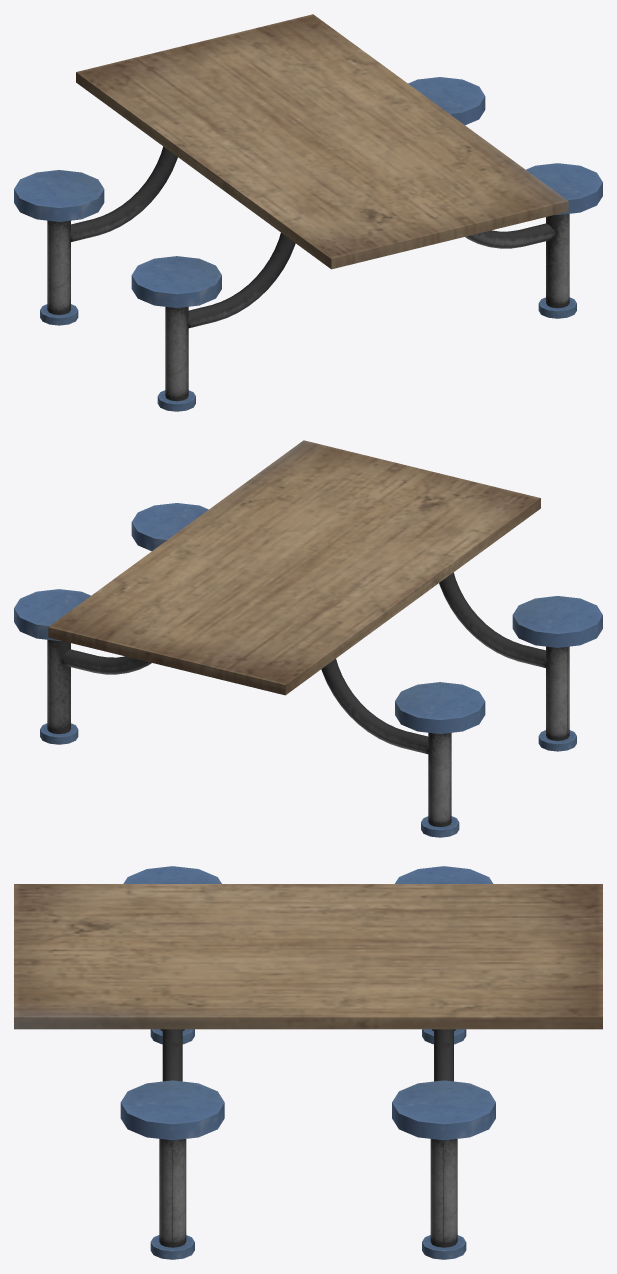
Rendered from Table_1.fbx.
3 renders of one model, top to bottom at view 1: azimuth 30°, elevation 25°; view 2: azimuth 150°, elevation 25°; view 3: azimuth 270°, elevation 25°, orthographic. The views are drawn at different scales.
Parts seen in each view (by area): view 1: Table_1; view 2: Table_1; view 3: Table_1.
Part boxes in pixels (<box>): Table_1: <box>14,14,602,411</box>; Table_1: <box>14,440,602,837</box>; Table_1: <box>14,866,602,1259</box>.
Size of the model in its own units: 4.37 by 1.58 by 4.21.
